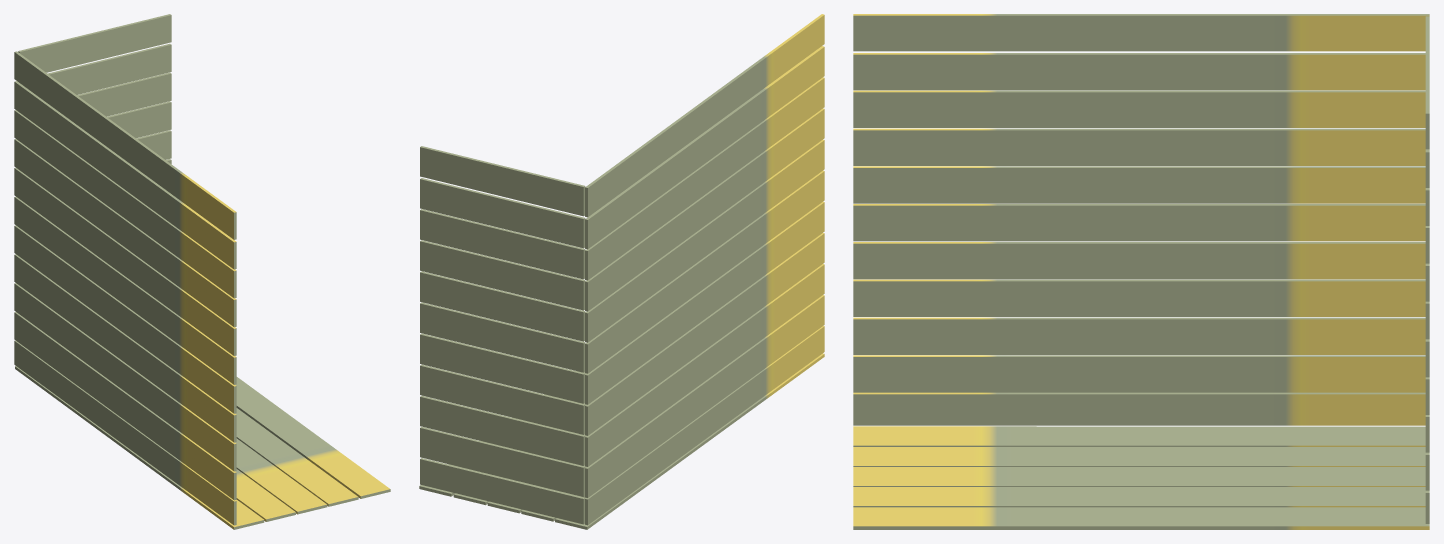
Rendered from Bathroom2_parquet.fbx.
3 renders of one model, left to right at view 1: azimuth 30°, elevation 25°; view 2: azimuth 150°, elevation 25°; view 3: azimuth 270°, elevation 25°, orthographic. The views are drawn at different scales.
Visible parts, largest first — view 1: Bathroom2_parquet; view 2: Bathroom2_parquet; view 3: Bathroom2_parquet.
Boxes of the visible parts, x1,y1,x2,y2 form: Bathroom2_parquet: (14, 14, 390, 529); Bathroom2_parquet: (419, 14, 824, 529); Bathroom2_parquet: (853, 14, 1429, 529).
Size of the model in its own units: 201 by 390 by 489.
